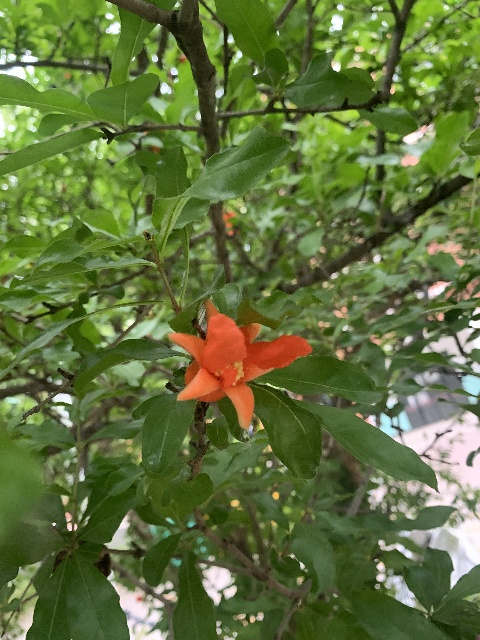flower: (169, 300, 311, 429)
